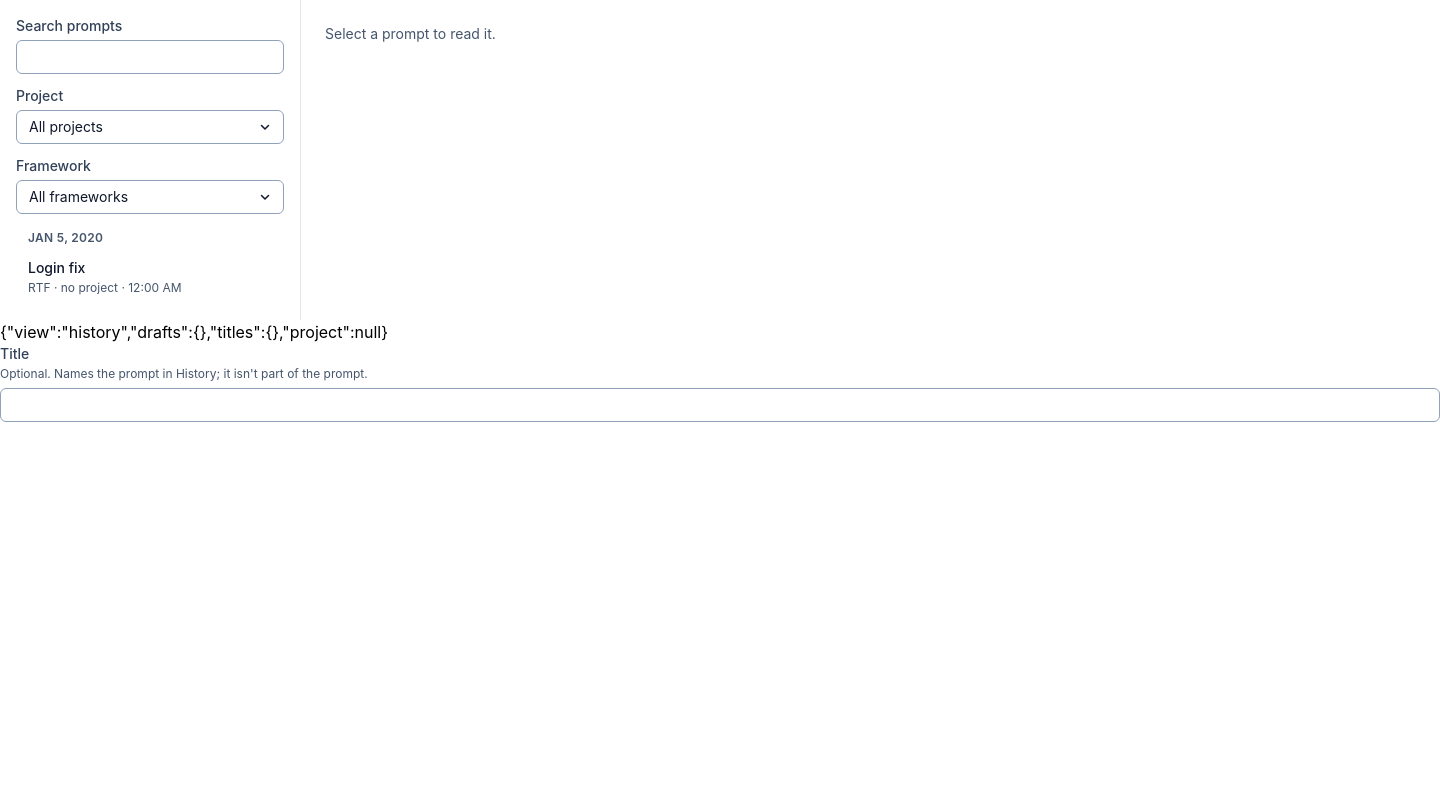
Test: OpenInBuilder › a deleted framework › bringing_back_restores_then_opens_the_entry
The width and height of the screenshot is (1440, 810).
Click the button "Login fix RTF · no project · 12:00 AM" at (150, 277), box left=16, top=250, right=284, bottom=304
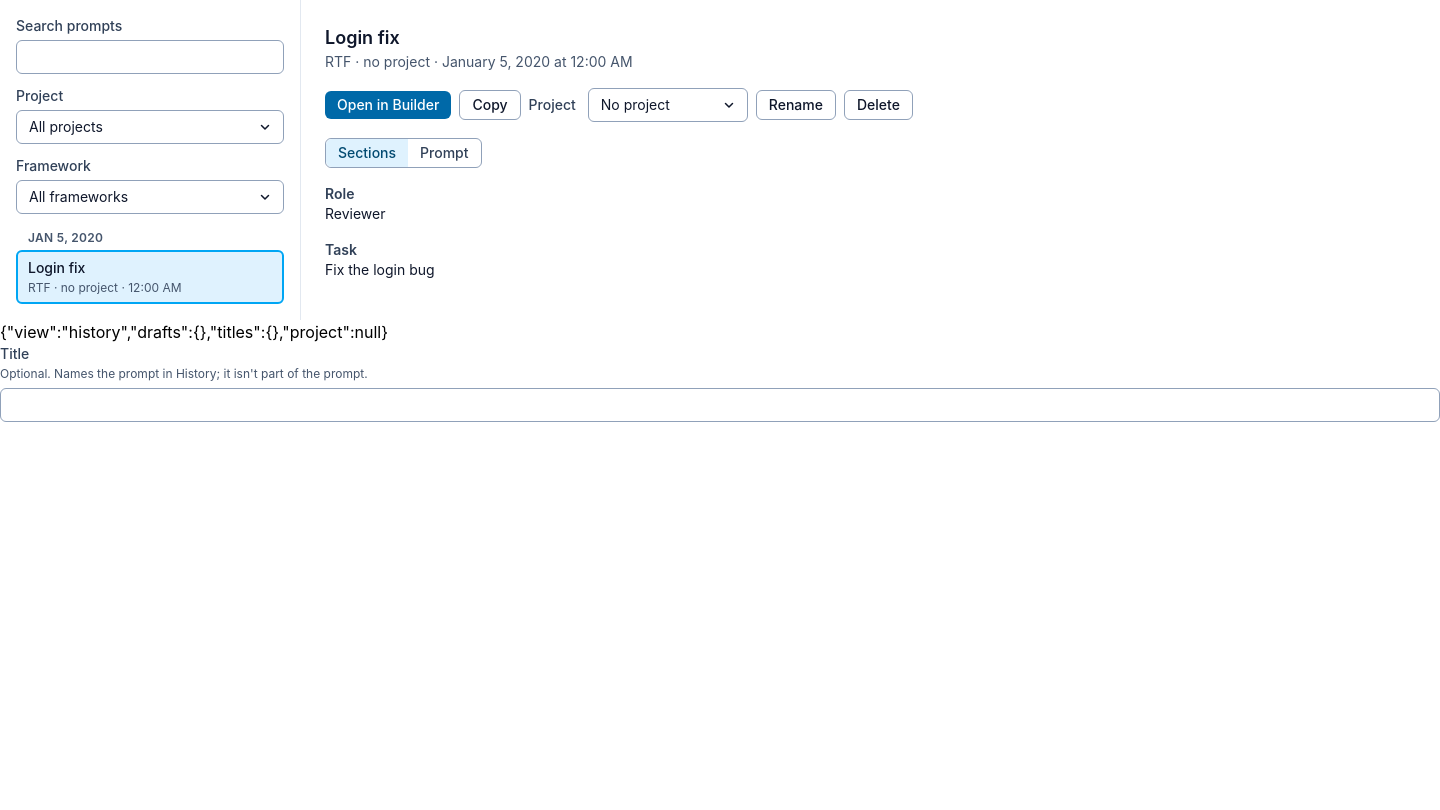
Click the button "Open in Builder" at (388, 105), box left=325, top=91, right=451, bottom=119
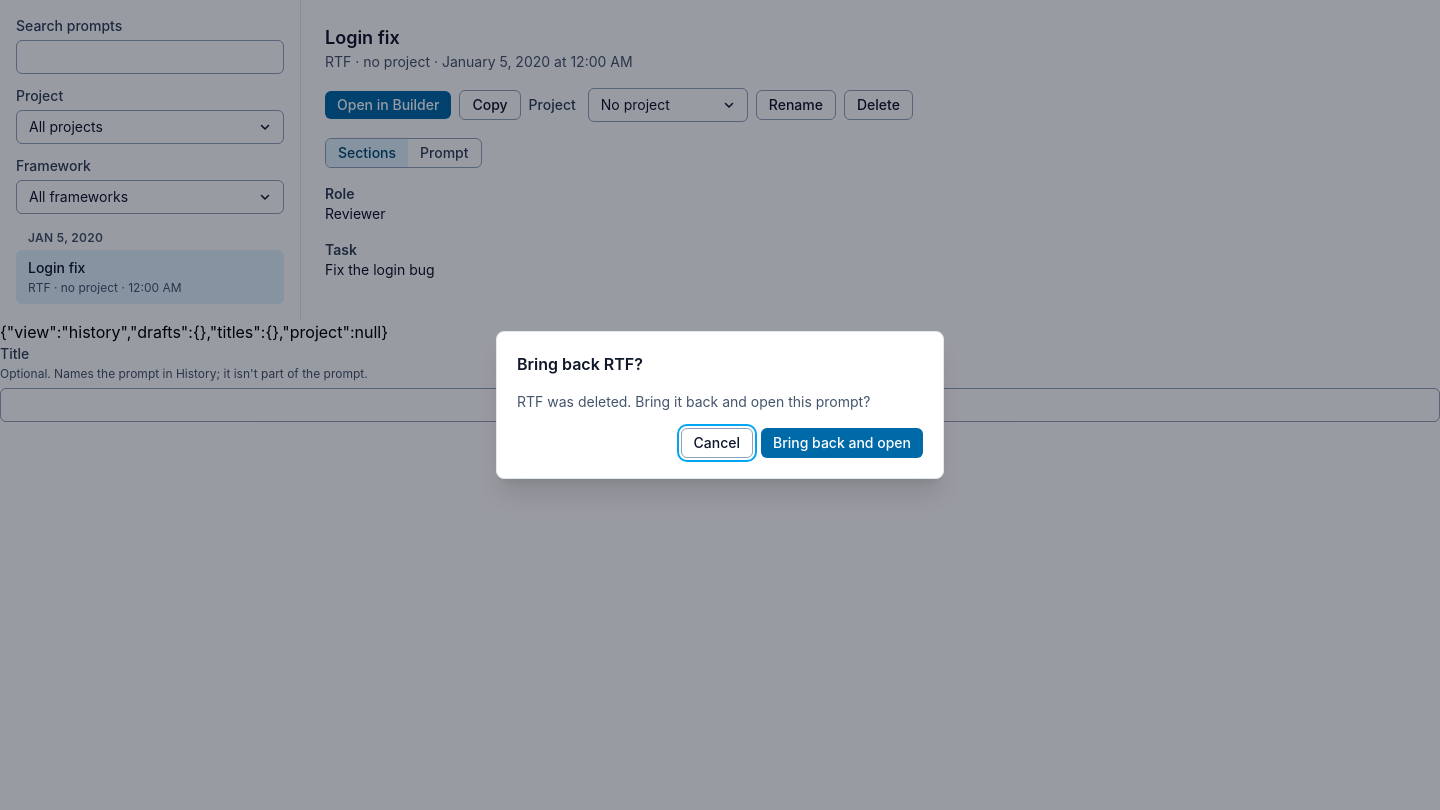
Click the button "Bring back and open" at (842, 443), box left=761, top=428, right=923, bottom=458
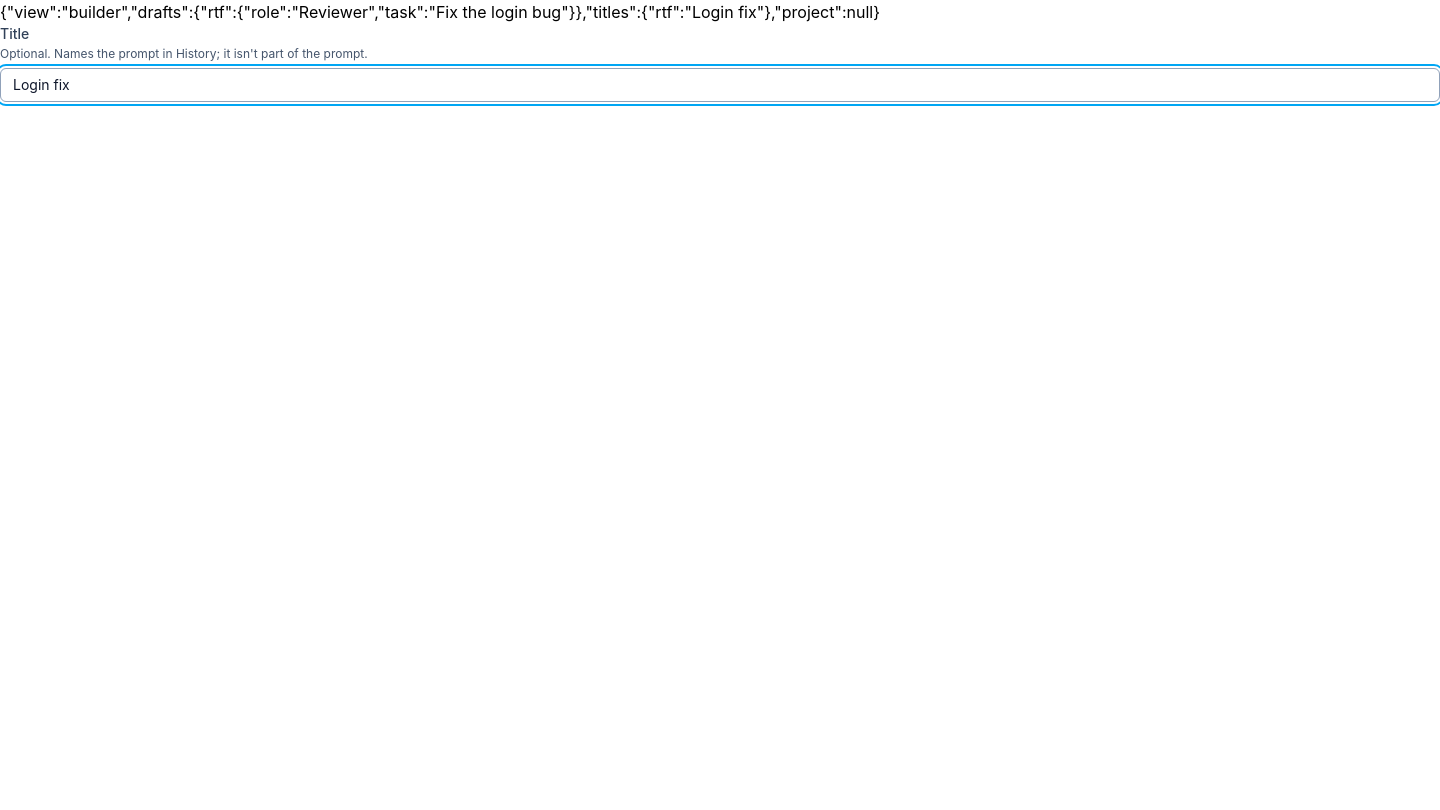
Result: the field labelled "Title" holds "Login fix" at left=0, top=68, right=1439, bottom=102
